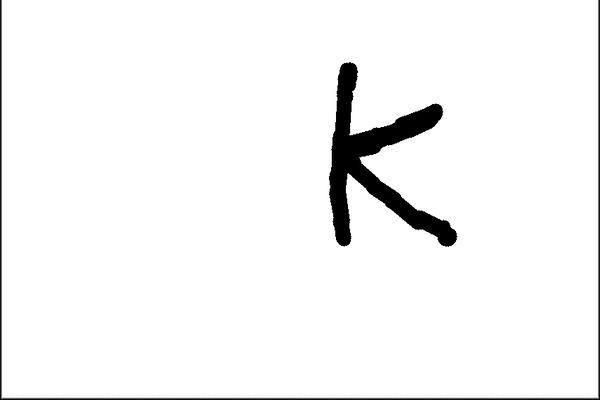K: (321, 56, 465, 251)
